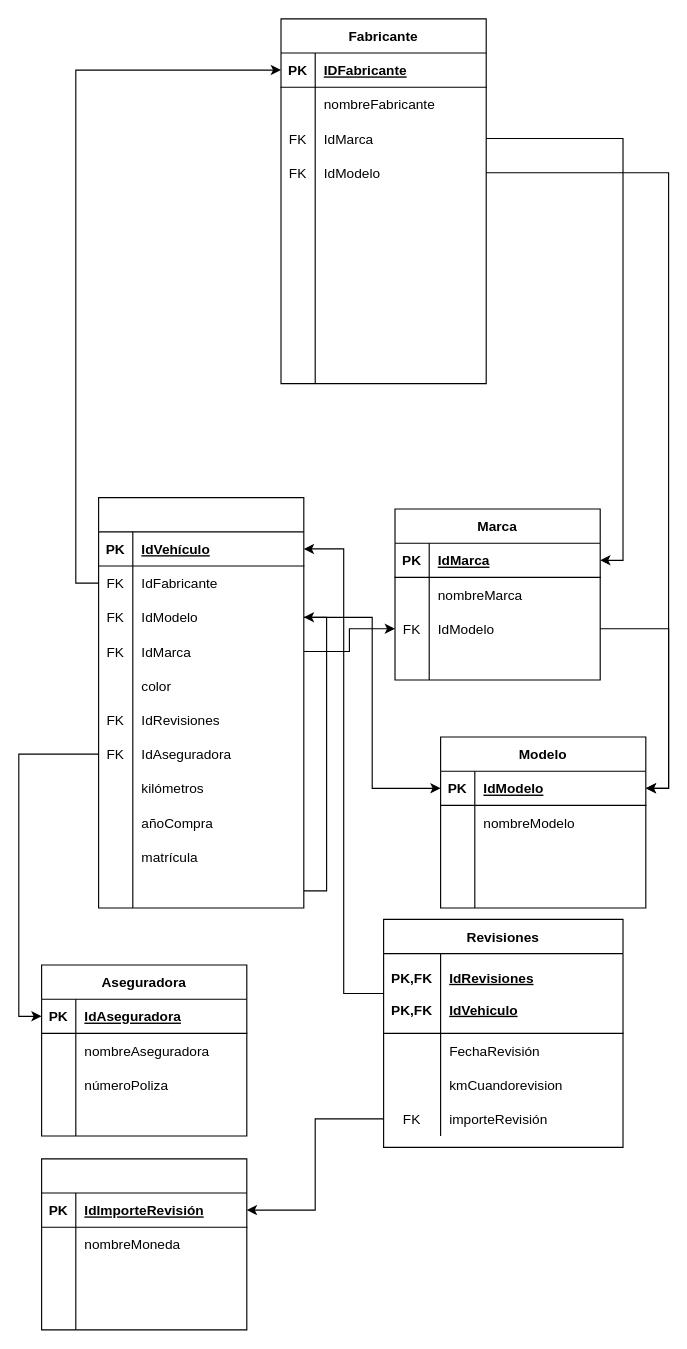
This 687x1349 diagram has some shape labels left out. Here are the shapes that lost their labels. From the top down, the box of each, then its label:
(97, 496, 304, 908): Vehiculo
(40, 1158, 247, 1330): ImporteRevision
